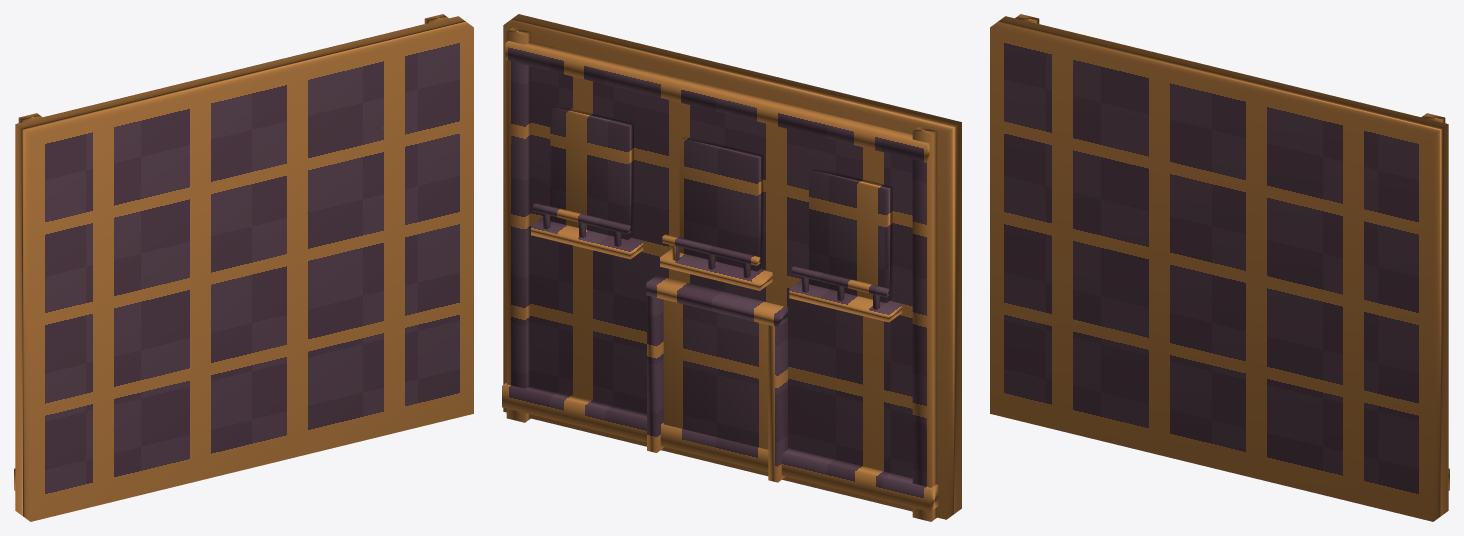
Rendered from SM_Env_CairoFacade_B.obj.
3 renders of one model, left to right at view 1: azimuth 30°, elevation 25°; view 2: azimuth 150°, elevation 25°; view 3: azimuth 330°, elevation 25°, orthographic.
Parts seen in each view (by area): view 1: SM_Env_CairoFacade_B; view 2: SM_Env_CairoFacade_B; view 3: SM_Env_CairoFacade_B.
Boxes of the visible parts, x1,y1,x2,y2 form: SM_Env_CairoFacade_B: (14,14,473,521); SM_Env_CairoFacade_B: (502,14,961,521); SM_Env_CairoFacade_B: (990,14,1449,521).
Bounding box in the file's own units: 6 × 5 × 0.72.
1 material, 1 textured.
